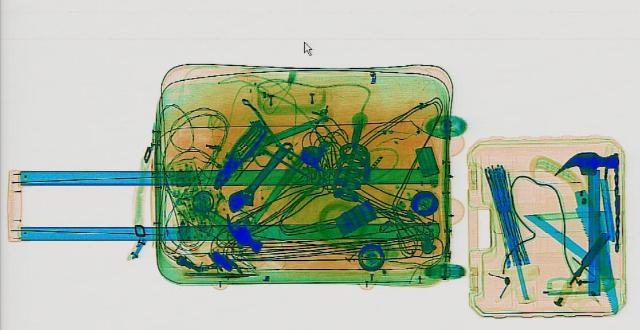Pliers: (200, 123, 272, 189)
Wrench: (216, 137, 300, 213)
